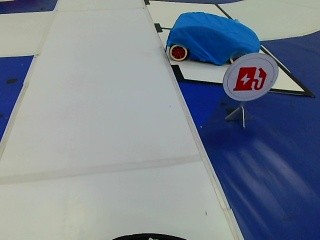battery: (230, 59, 270, 95)
car: (160, 10, 262, 65)
